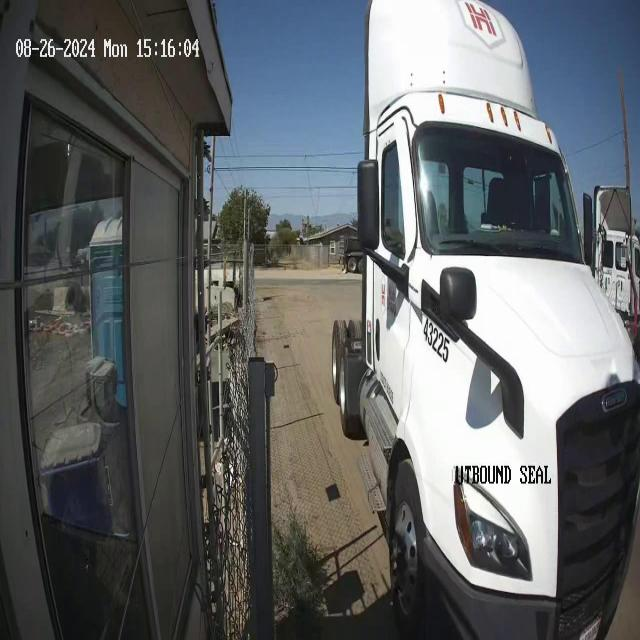TRUCK_IN: (332, 1, 639, 638)
